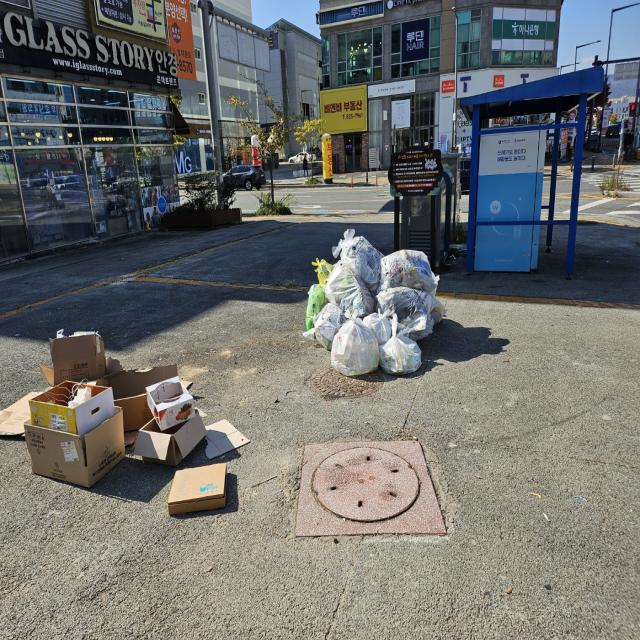CleanNet: (401, 194, 441, 265)
General Waste: (0, 321, 246, 536), (306, 234, 444, 372)
